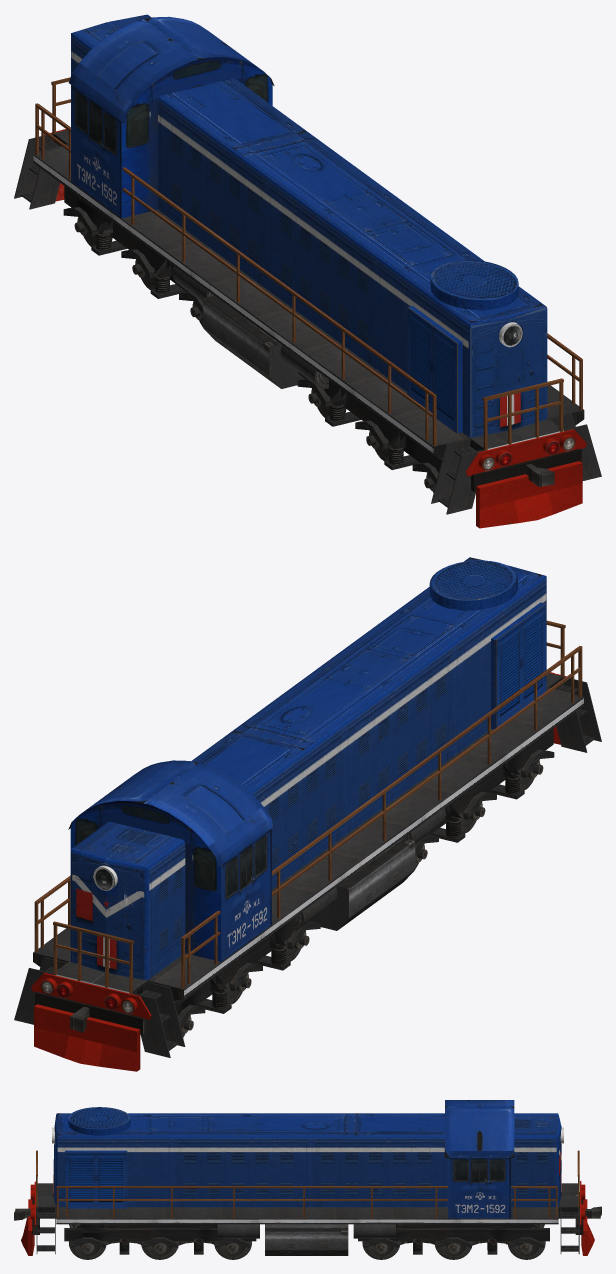
The model's file is tem2.glb.
3 renders of one model, top to bottom at view 1: azimuth 30°, elevation 25°; view 2: azimuth 150°, elevation 25°; view 3: azimuth 270°, elevation 25°, orthographic. The views are drawn at different scales.
Parts seen in each view (by area): view 1: train; view 2: train; view 3: train.
Part boxes in pixels (x1=…): train: x1=14, y1=14, x2=601, y2=528; train: x1=14, y1=557, x2=601, y2=1071; train: x1=14, y1=1100, x2=601, y2=1259.
Bounding box in the file's own units: 3.64 × 5.07 × 18.87.
Materials: 34 (34 with a texture image).
